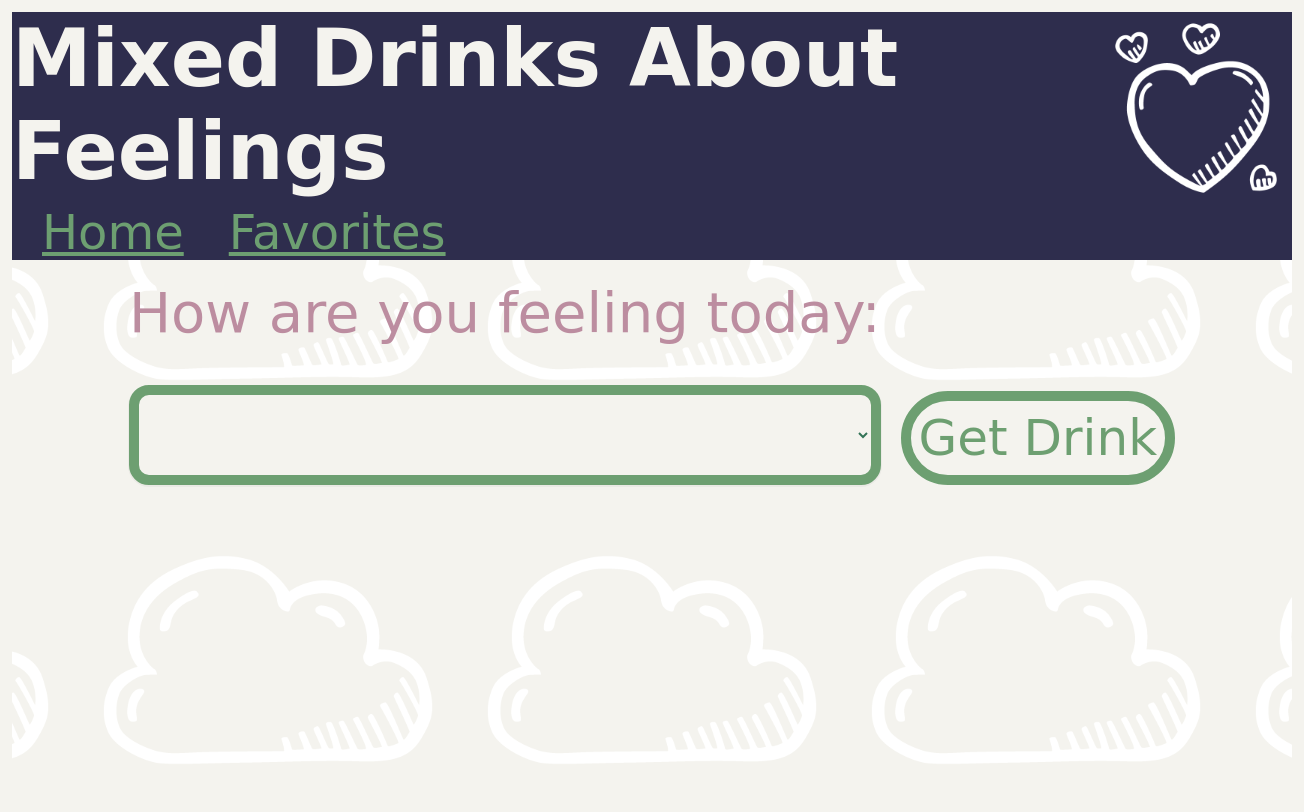
Error Handling › Form Errors › should display an error message if a user trys to get a drink without an emotion input
The width and height of the screenshot is (1304, 812).
Click the button with class "drinkBtn" at (1039, 438), box [901, 391, 1176, 485]
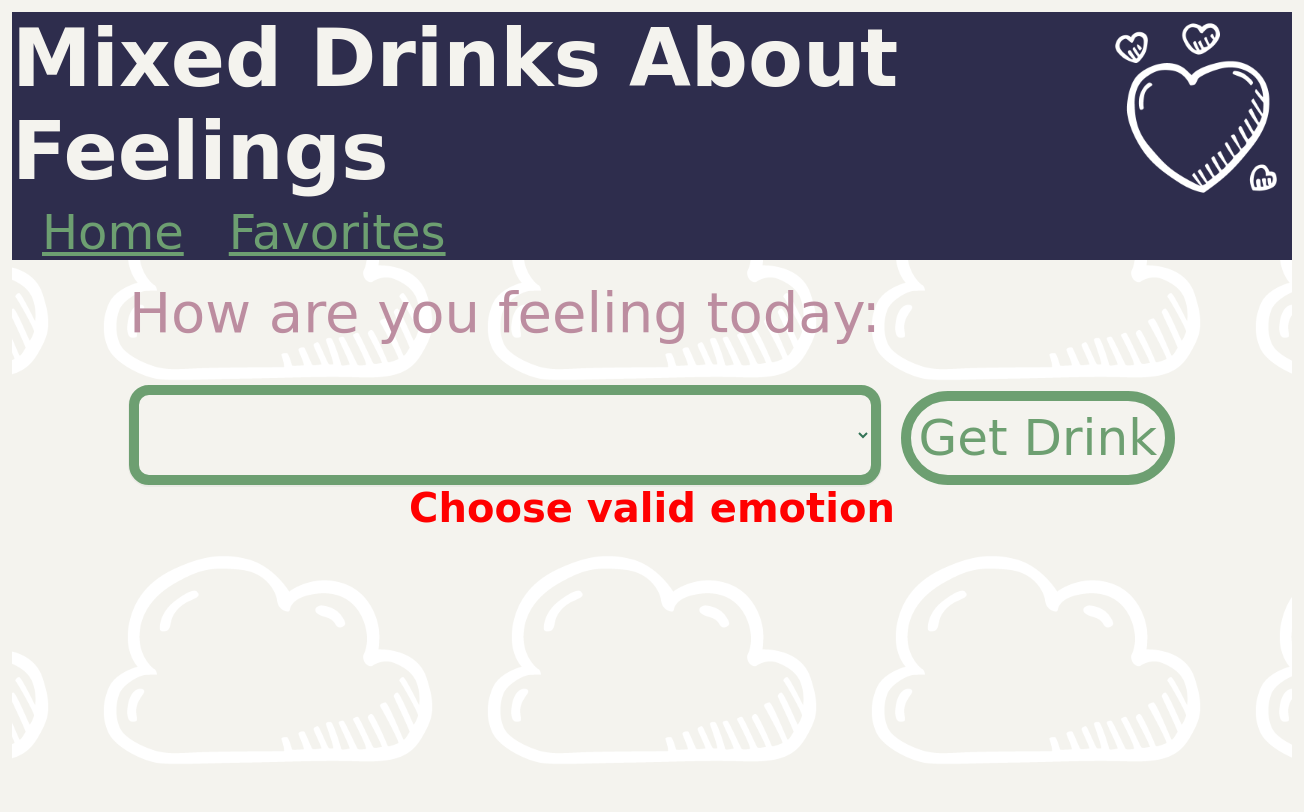
Expected: the text "Choose valid emotion" is shown, [409, 485, 895, 531]
